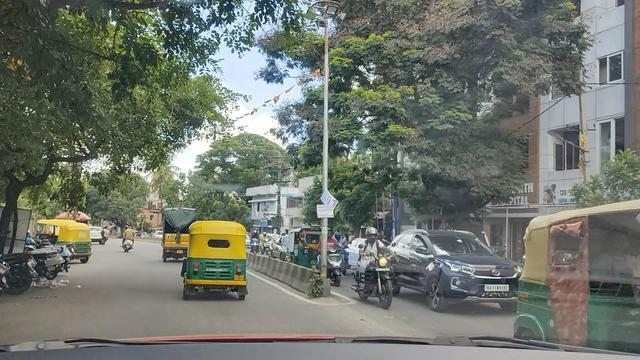LMV: (417, 228, 508, 305), (187, 220, 248, 298), (358, 223, 392, 302), (124, 225, 133, 248)
